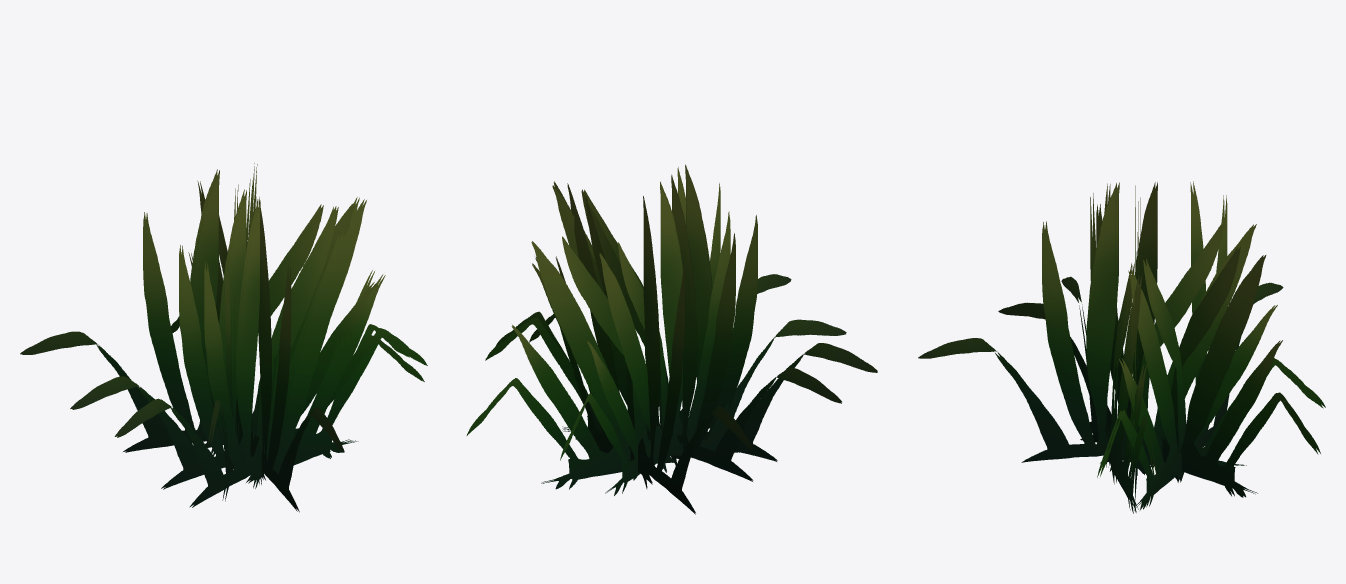
The model's file is grama3.fbx.
3 renders of one model, left to right at view 1: azimuth 30°, elevation 25°; view 2: azimuth 150°, elevation 25°; view 3: azimuth 270°, elevation 25°, orthographic.
Visible parts, largest first — view 1: grama; view 2: grama; view 3: grama.
Part boxes in pixels (x1,y1,x2,y2): grama: [20, 163, 427, 512]; grama: [466, 164, 877, 514]; grama: [918, 181, 1325, 513].
Size of the model in its own units: 0.3007 by 0.3 by 0.3011.
Materials: 1 (1 with a texture image).
